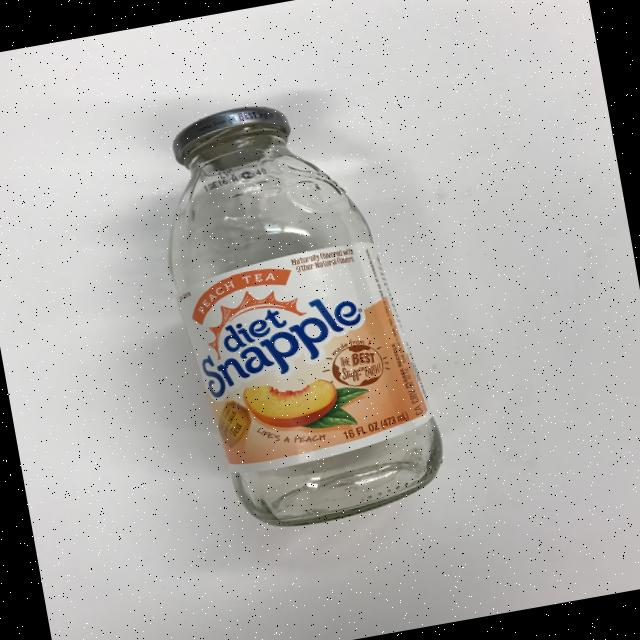glass: (142, 82, 452, 540)
